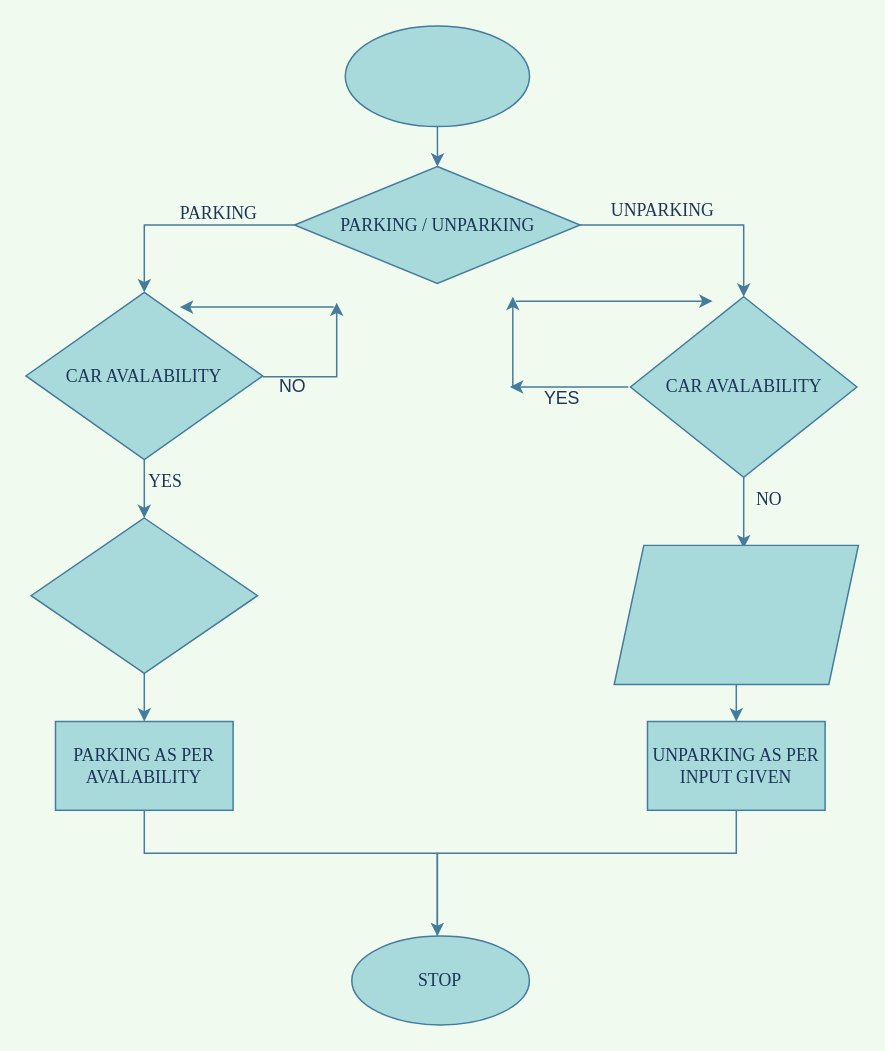
Image size: 885x1051. Some labels were removed from this diagram. The shapes that lost their labels are listed below. From the top down, each one's centre as x and y in pixels, then its label:
At pixel 437 75: "START".
At pixel 144 595: "SLOT SELECTION AUTOMATICALLY USING IR SENSORS".
At pixel 735 614: "TAKING INPUT FOR SLOT SELECTION".
